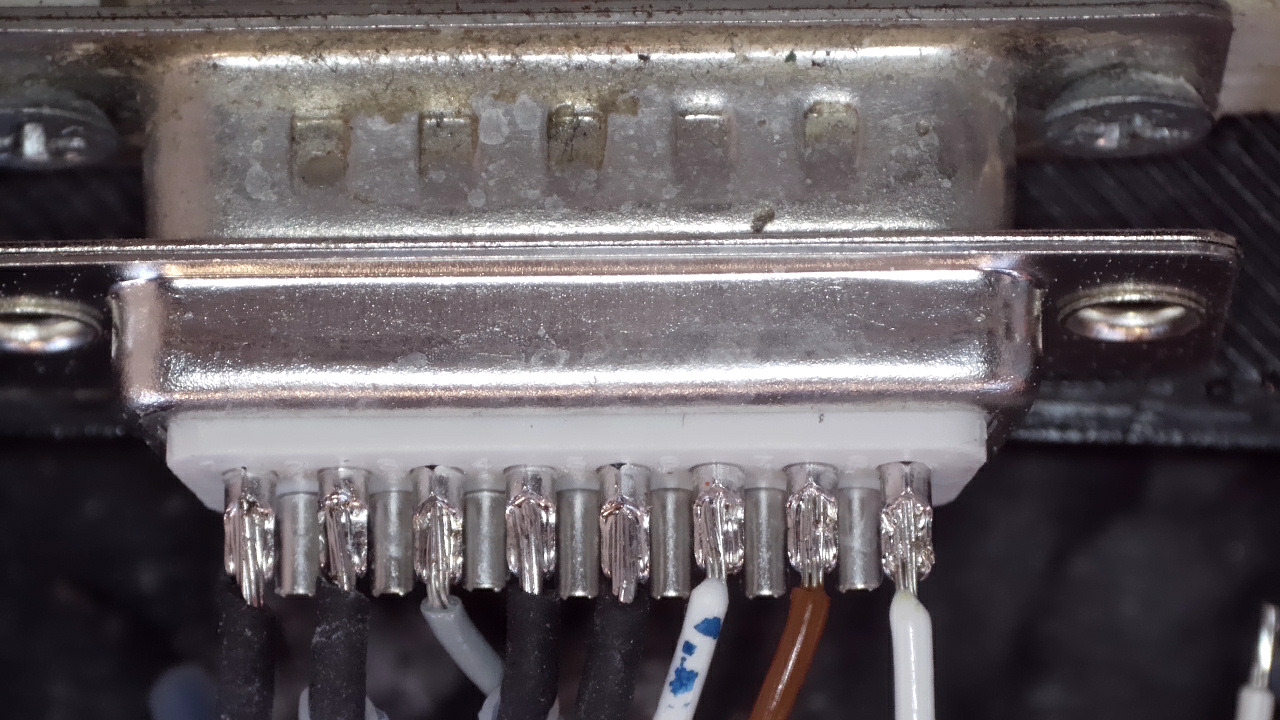bad_weld: (300, 447, 381, 645)
good_weld: (770, 436, 855, 625), (210, 453, 290, 652), (491, 444, 573, 637), (867, 447, 949, 634), (404, 448, 479, 644), (680, 435, 749, 634), (589, 439, 660, 632)
